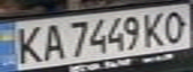4: (87, 16, 112, 55), (106, 14, 127, 52)
7: (63, 18, 90, 57)
9: (121, 12, 145, 51)
A: (39, 20, 66, 61)
K: (9, 22, 48, 65), (139, 10, 169, 47)
O: (160, 7, 190, 44)
